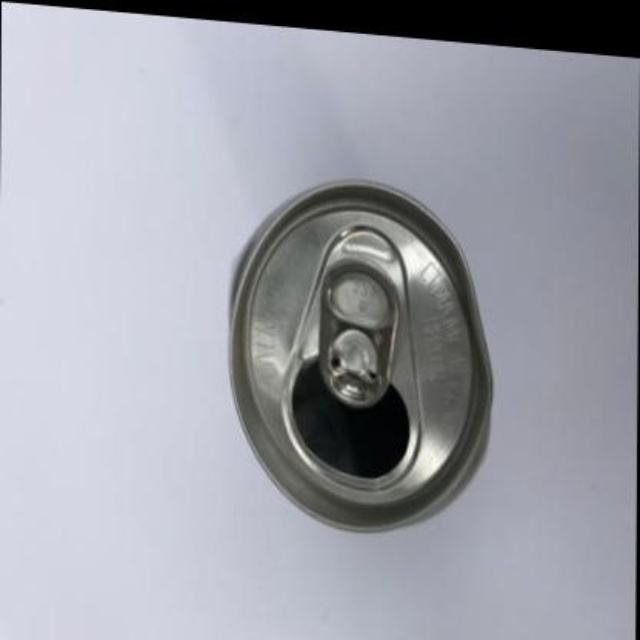trash: (231, 182, 491, 529)
